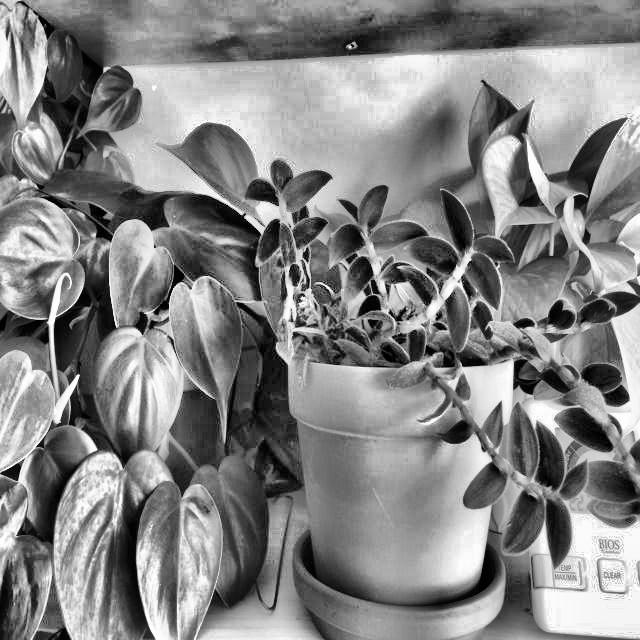plants: (3, 32, 244, 612), (246, 152, 504, 628), (506, 105, 640, 271)
